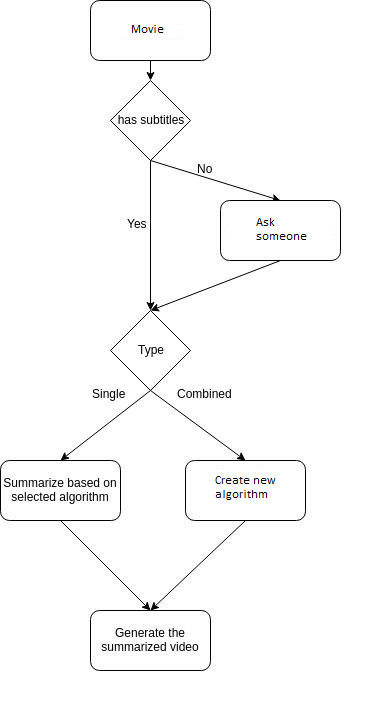arrow: (145, 518, 248, 614), (53, 516, 148, 614), (148, 257, 282, 313), (148, 385, 248, 460), (56, 385, 148, 461), (144, 155, 286, 204), (142, 157, 155, 310), (144, 61, 157, 80)
decision: (108, 79, 192, 161), (111, 310, 191, 391)
process: (87, 605, 214, 675), (183, 457, 308, 526), (1, 455, 124, 525), (218, 196, 343, 263), (87, 1, 214, 64)
text: (2, 471, 120, 508), (98, 622, 202, 652), (211, 469, 277, 502), (252, 214, 310, 243), (114, 110, 188, 128), (172, 385, 234, 403), (127, 19, 166, 38), (88, 385, 128, 402), (135, 341, 166, 357), (190, 160, 216, 176), (124, 215, 147, 229)
